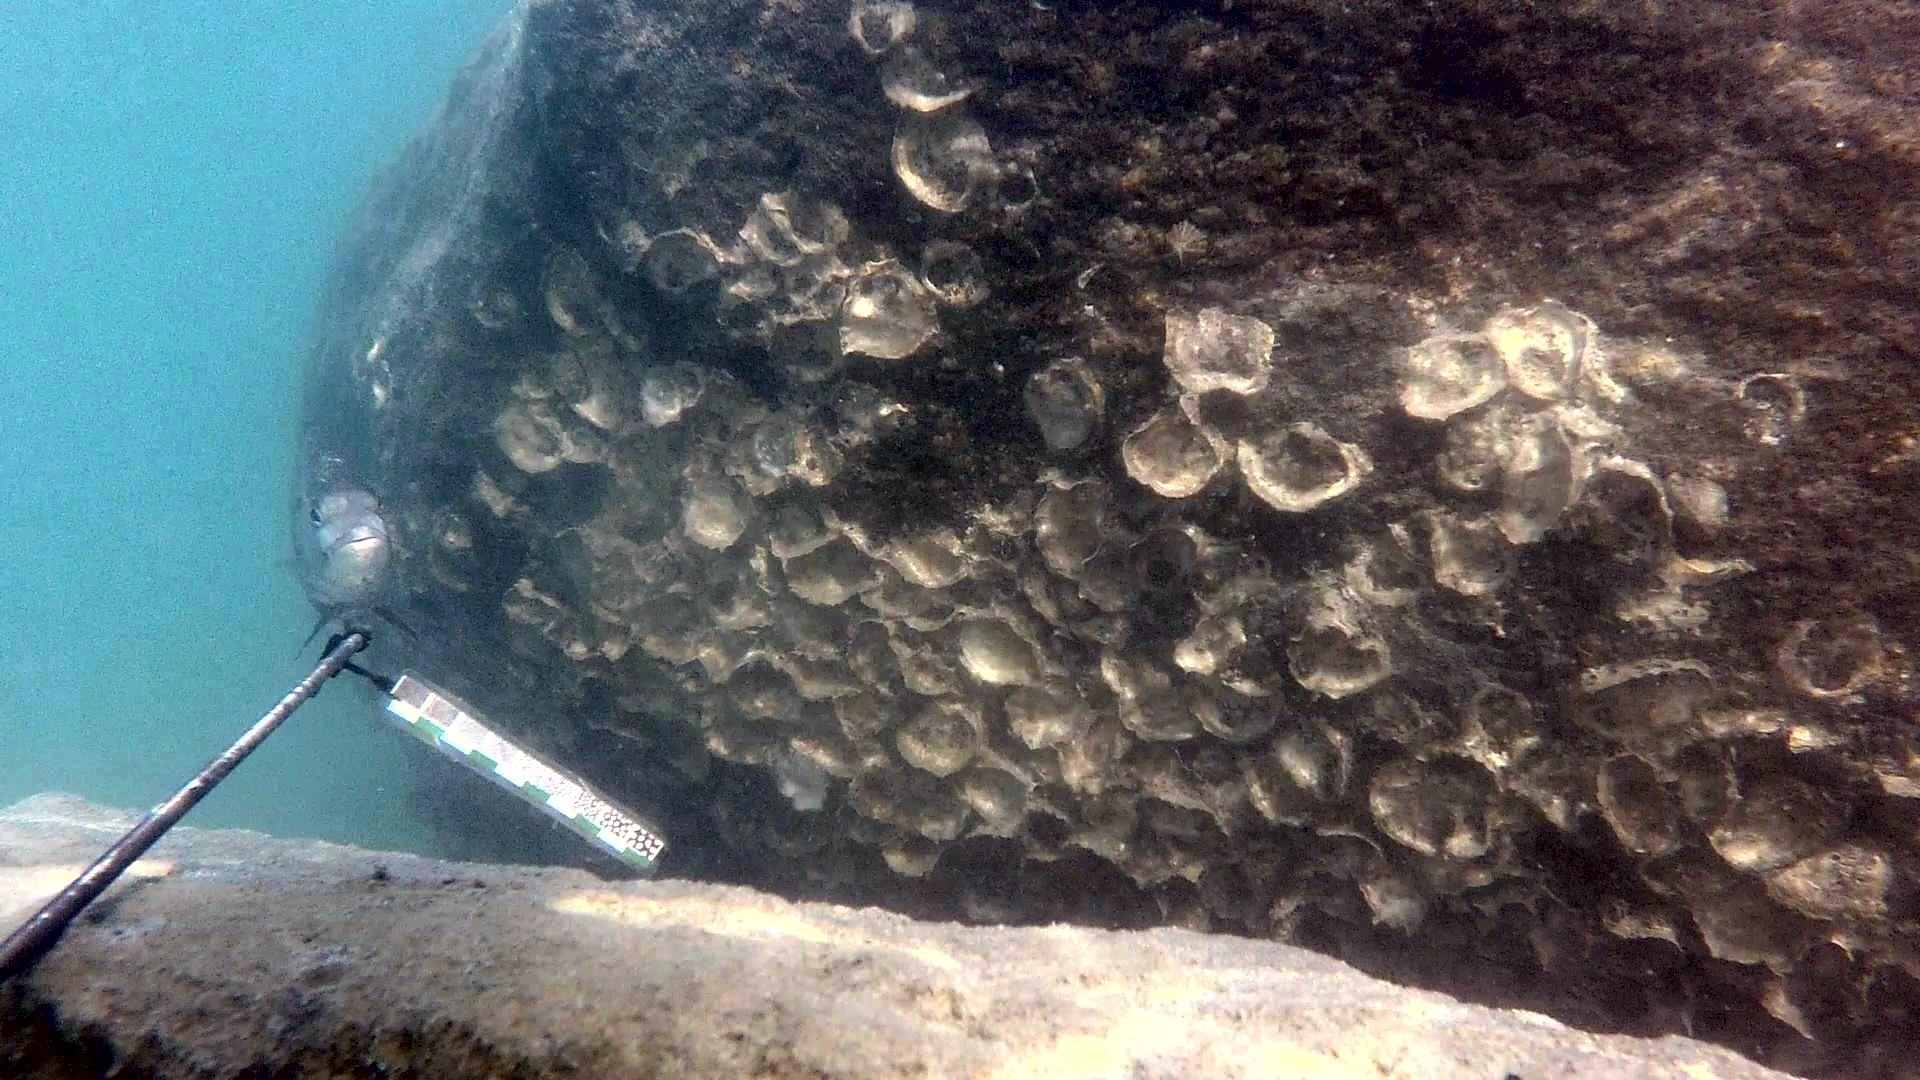acanthopagrus palmaris: (281, 435, 429, 663)
